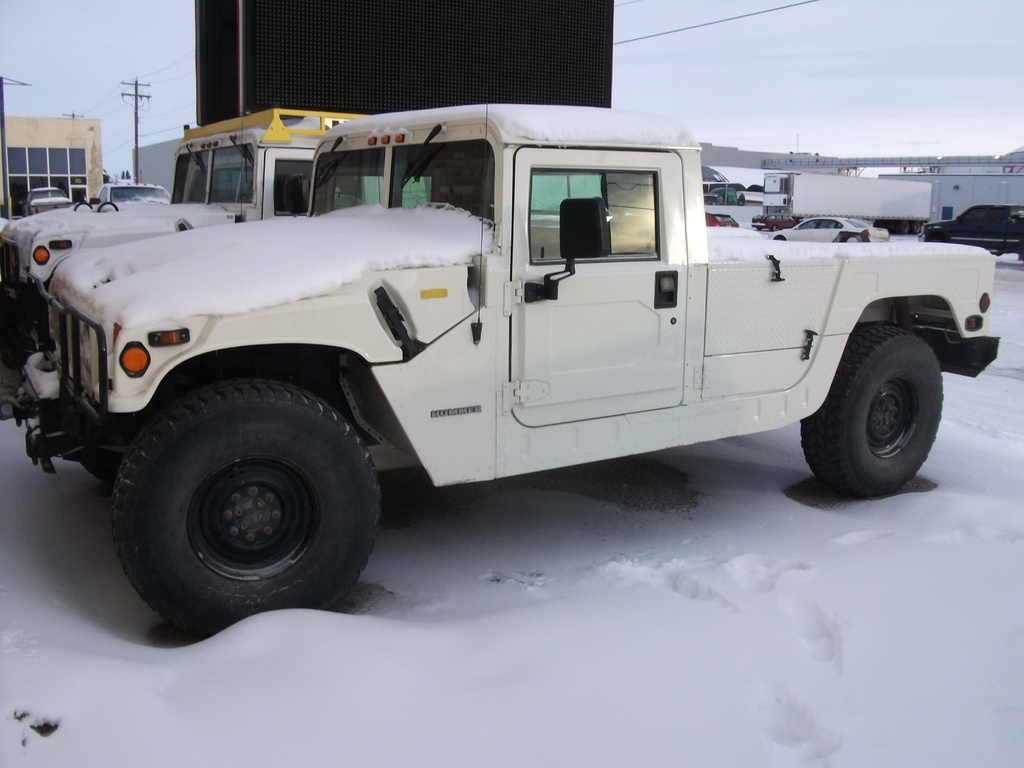mobil: (89, 101, 1024, 616)
